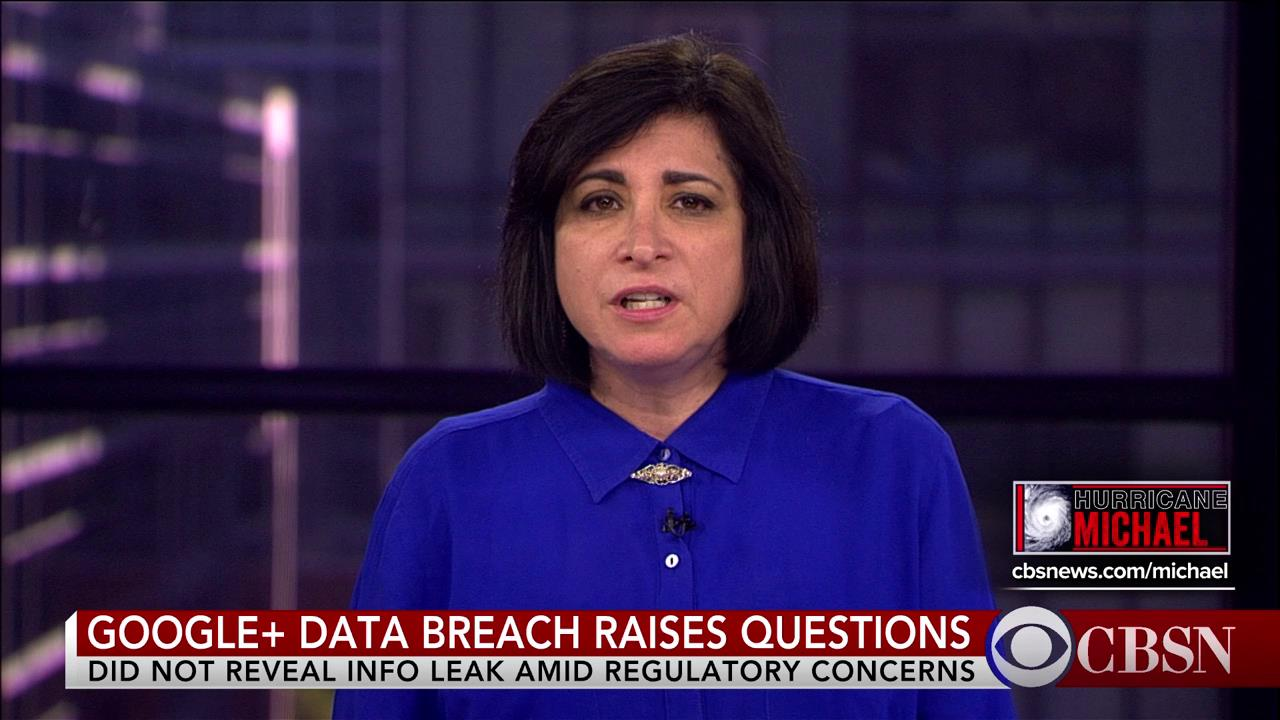CBSN: (1076, 623, 1239, 676)
DID NOT REVEAL INFO LEAK AMID REGULATORY CONCERNS: (84, 656, 976, 683)
GOOGLE+ DATA BREACH RAISES QUESTIONS: (84, 610, 975, 652)
HURRICANE: (1071, 487, 1228, 510)
MICHAEL: (1070, 509, 1211, 548)
cbsnews.com/michael: (1010, 560, 1231, 577)
